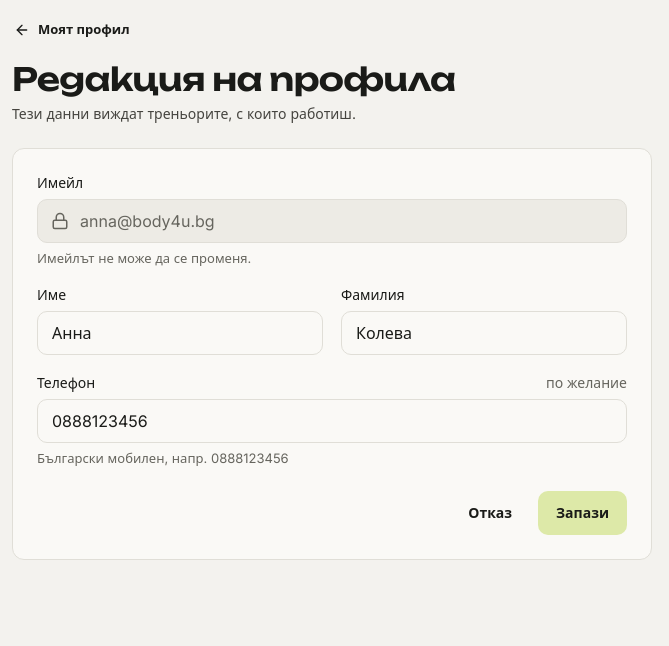
Test: EditProfilePage › puts server field errors (400) under the fields
The image size is (669, 646).
Click the button "Запази" at point(582, 513), box [538,491,627,535]
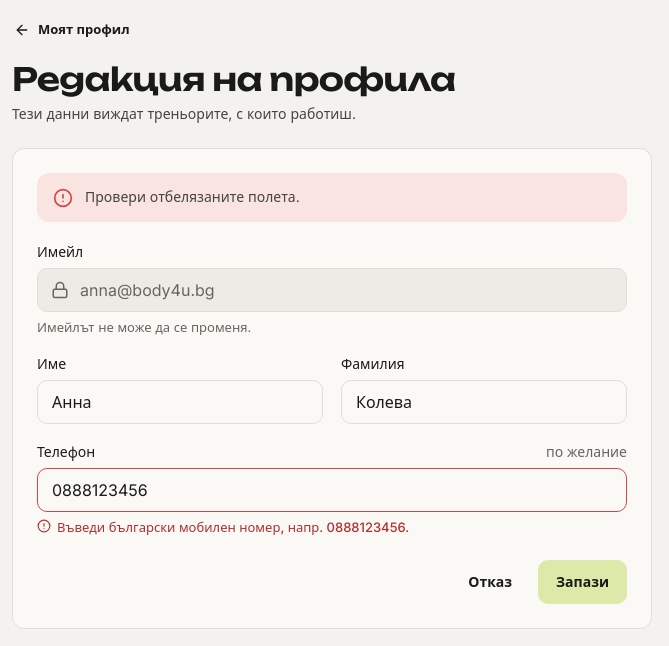
Now the text "Въведи български мобилен номер, напр. 0888123456." is shown, box [37,519,409,535]
Now the text "Провери отбелязаните полета." is shown, box [85,188,300,205]
